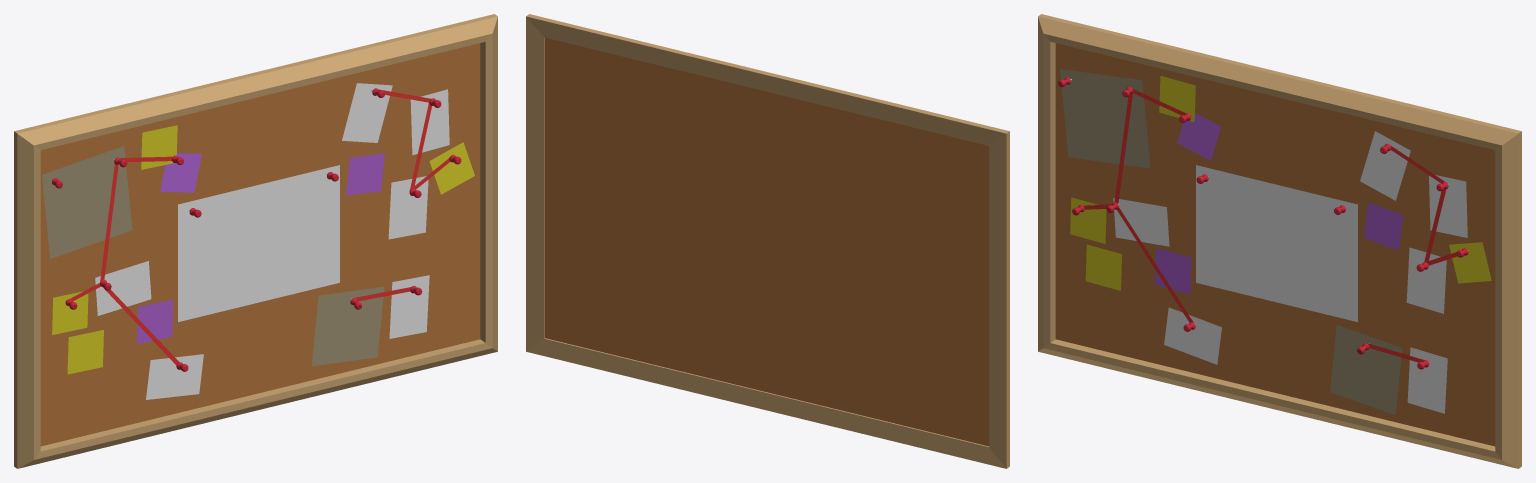
The model's file is CorkboardDecorated.fbx.
The picture shows the model from 3 angles, left to right: view 1: azimuth 30°, elevation 25°; view 2: azimuth 150°, elevation 25°; view 3: azimuth 330°, elevation 25°; orthographic projection.
Parts seen in each view (by area): view 1: board, frame, Plane, Plane.001, Plane.009, Plane.005, Plane.014, Plane.008, Plane.006, Plane.013, Plane.004, Plane.012 (+8 smaller); view 2: board, frame; view 3: board, frame, Plane, Plane.001, Plane.009, Plane.014, Plane.008, Plane.005, Plane.013, Plane.006, Plane.004, Plane.015 (+8 smaller).
Part boxes in pixels (x1,y1,x2,y2): board: [40, 43, 480, 446]; frame: [14, 14, 497, 468]; Plane: [178, 165, 339, 321]; Plane.001: [42, 146, 132, 258]; Plane.009: [312, 286, 384, 366]; Plane.005: [342, 83, 392, 142]; Plane.014: [146, 354, 203, 399]; Plane.008: [389, 275, 429, 338]; Plane.006: [388, 176, 428, 239]; Plane.013: [95, 261, 151, 315]; Plane.004: [410, 89, 449, 155]; Plane.012: [67, 330, 103, 374]; board: [545, 37, 989, 446]; frame: [526, 14, 1009, 468]; board: [1055, 43, 1495, 446]; frame: [1038, 14, 1521, 468]; Plane: [1196, 165, 1357, 321]; Plane.001: [1060, 69, 1150, 168]; Plane.009: [1330, 325, 1402, 414]; Plane.014: [1164, 307, 1221, 364]; Plane.008: [1407, 347, 1447, 413]; Plane.005: [1360, 131, 1410, 200]; Plane.013: [1113, 198, 1169, 246]; Plane.006: [1406, 247, 1446, 313]; Plane.004: [1429, 175, 1467, 237]; Plane.015: [1364, 202, 1402, 250].
Bounding box in the file's own units: 6000 × 4000 × 298.
